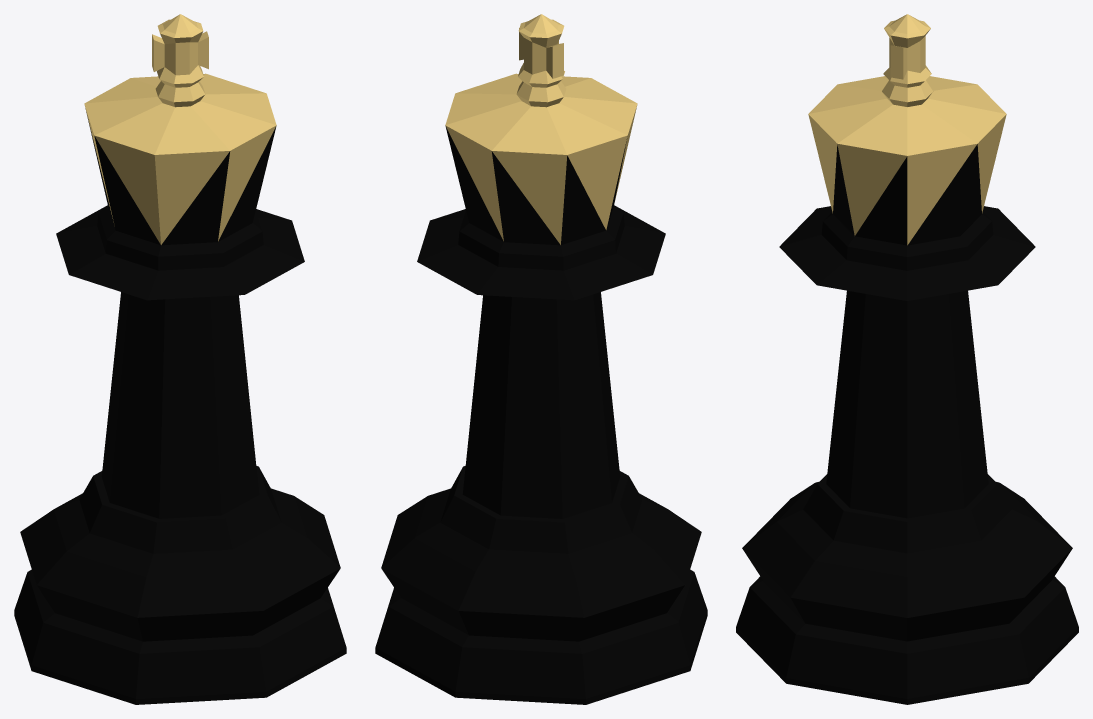
File: gercek5_k_b.glb
3 views of the same model, side by side, from view 1: azimuth 30°, elevation 25°; view 2: azimuth 150°, elevation 25°; view 3: azimuth 270°, elevation 25° (orthographic).
Parts seen in each view (by area): view 1: k_b; view 2: k_b; view 3: k_b.
Boxes of the visible parts, box(x1,y1,x2,y2) form: k_b: box(14, 14, 346, 704); k_b: box(375, 14, 707, 704); k_b: box(736, 14, 1078, 704).
Bounding box in the file's own units: 0.4519 × 0.9 × 0.4519.
